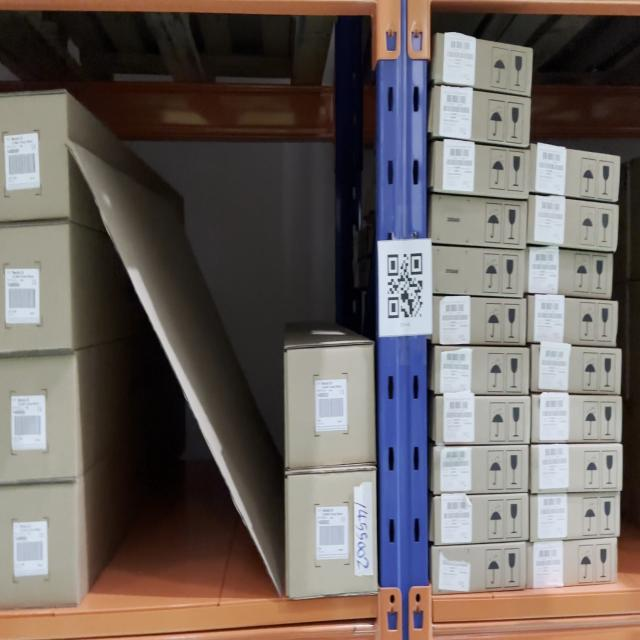box: (286, 474, 377, 594), (283, 348, 375, 464), (432, 32, 533, 98), (427, 87, 532, 149), (429, 139, 530, 200), (436, 396, 531, 444), (434, 297, 526, 345), (435, 347, 530, 393), (433, 200, 527, 246), (433, 250, 525, 296), (432, 449, 528, 492), (531, 396, 622, 441), (532, 347, 621, 393), (432, 499, 530, 540), (432, 543, 525, 585), (532, 447, 624, 489), (526, 303, 618, 344), (527, 206, 618, 244), (528, 544, 617, 582), (526, 256, 613, 293), (531, 498, 620, 534), (531, 156, 620, 190)
